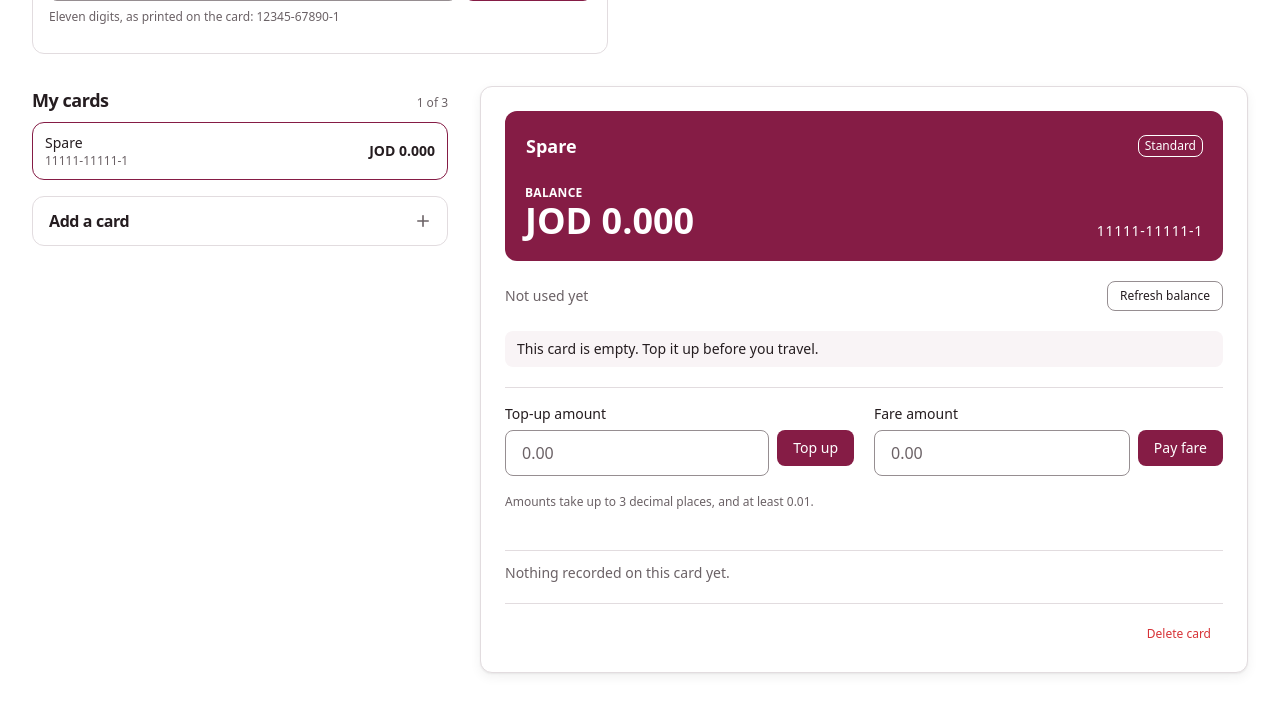
it: the money › deletes nothing when the password is wrong
(page scrolled)
Click the button "Delete card".
click(1179, 634)  # box [1135,620,1223,648]
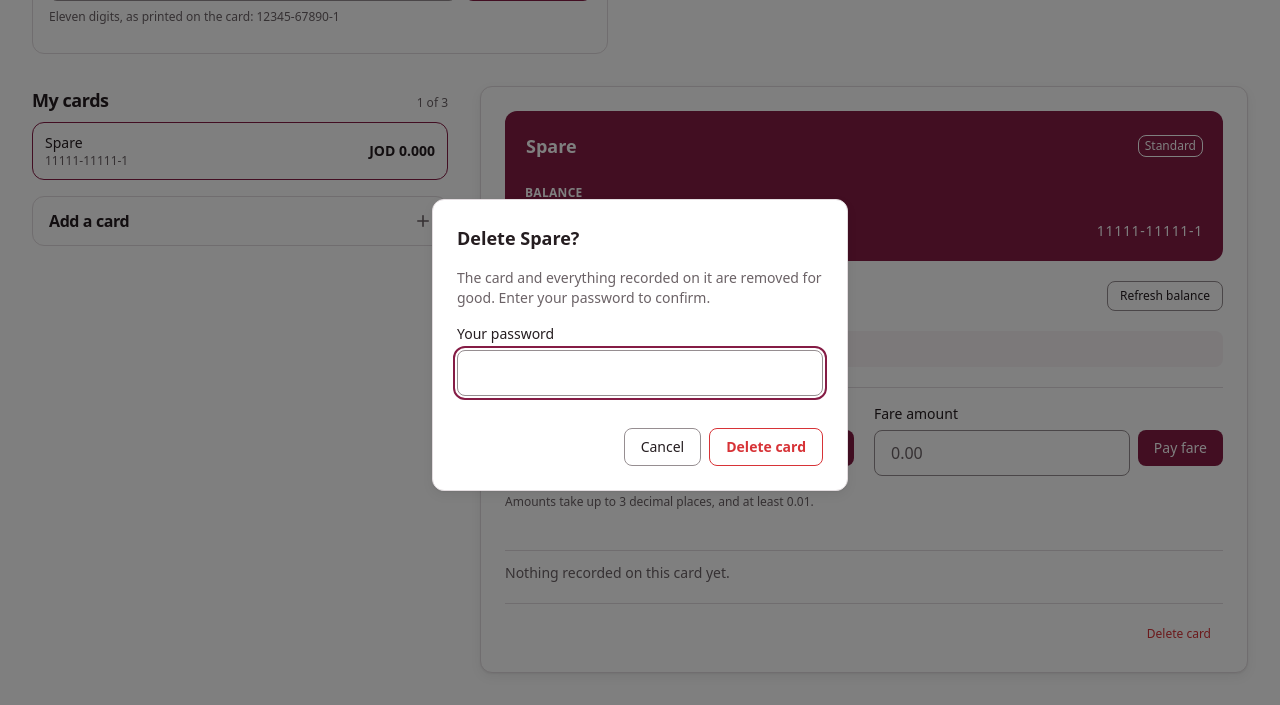
Type "not-the-password" into the password field labelled "Your password".
click(640, 373); type("not-the-password")  # box [457,350,823,396]
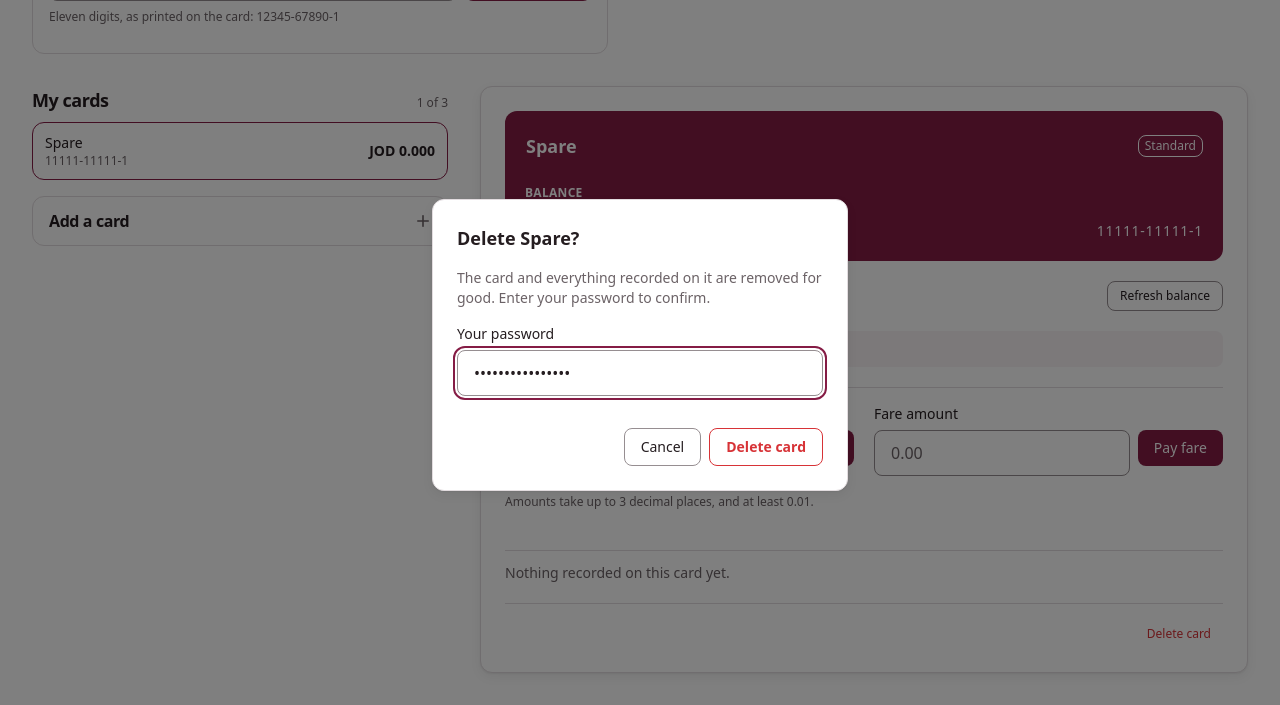
Click the button "Delete card".
click(766, 447)  # box [709,428,823,466]
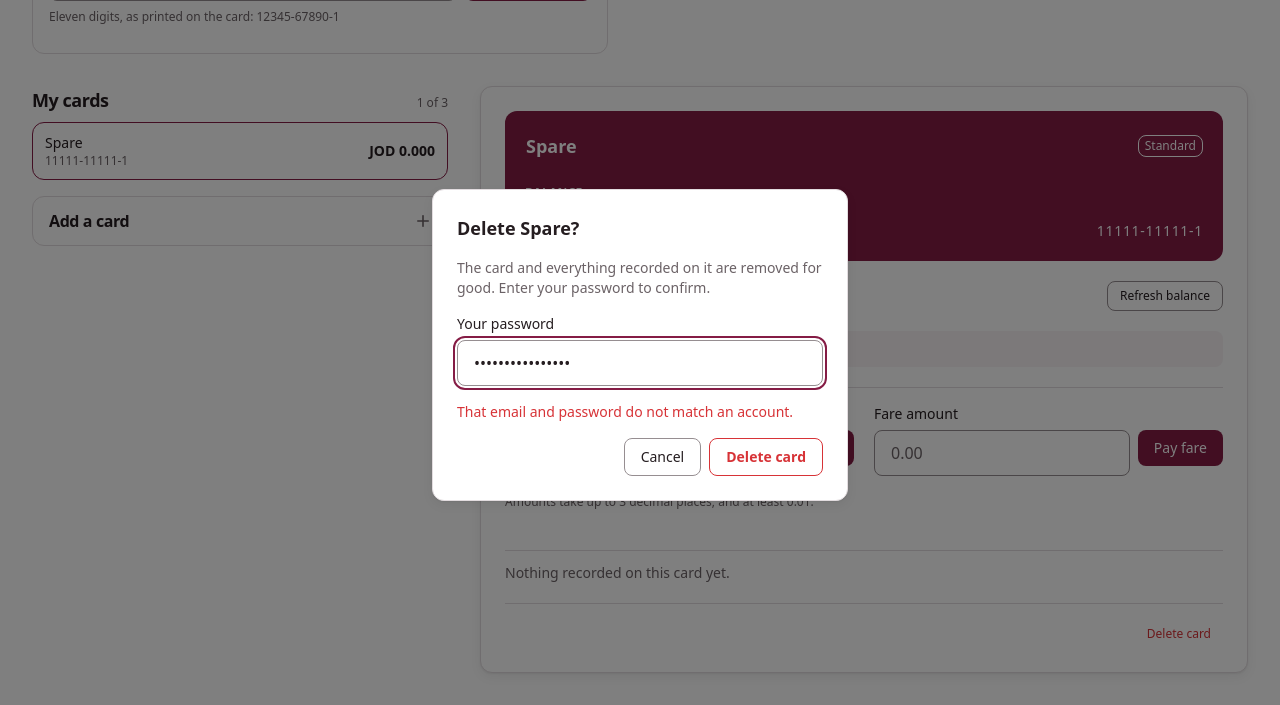
Expected: the dialog is shown, [432,189,848,501]
Expected: the text "That email and password do not match an account." is shown, [457,402,823,422]
